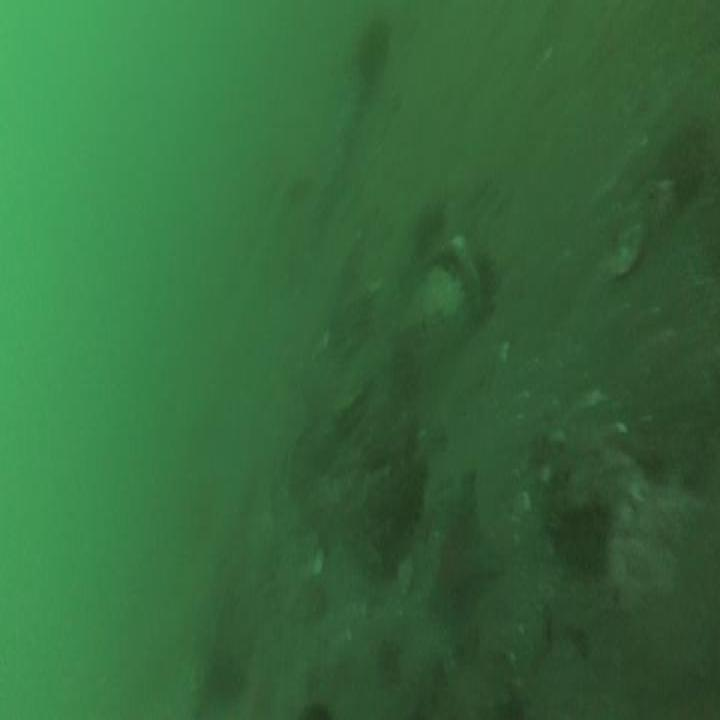starfish: (421, 484, 500, 638)
